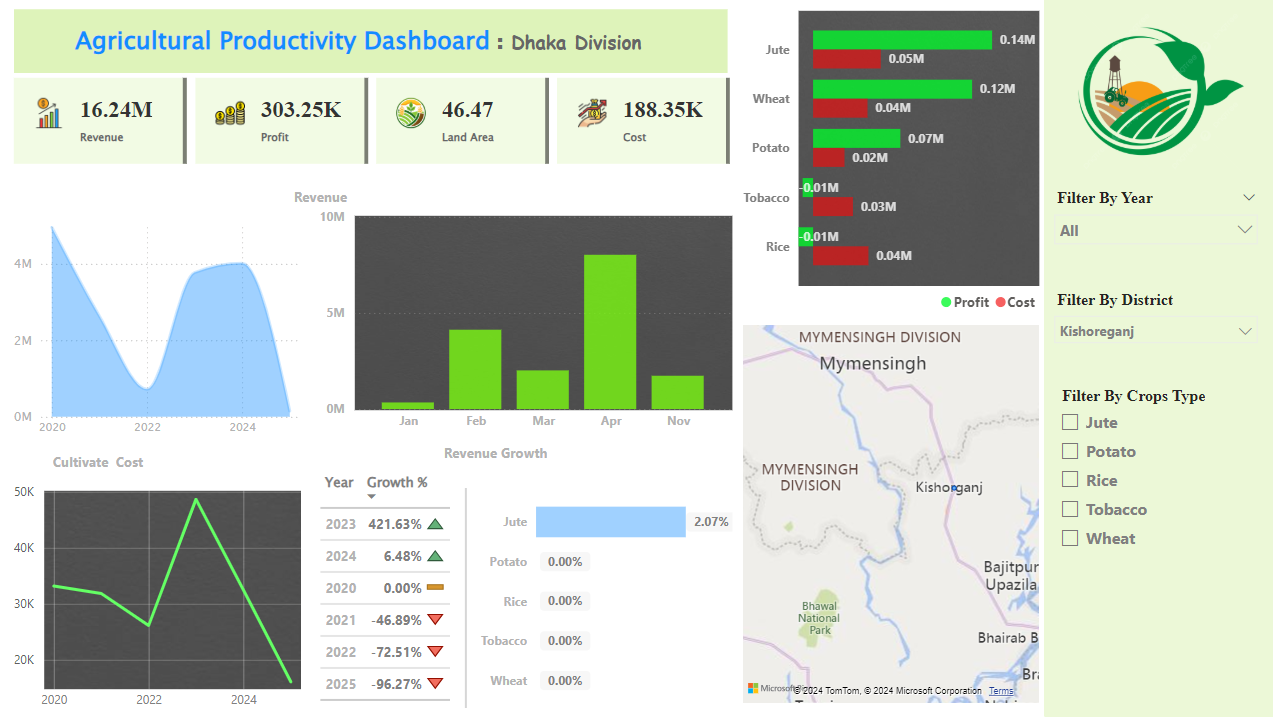

The page's visual inventory and layout, read from the dashboard file:
{"tool":"powerbi","page":{"name":"Page 1","canvas":[1280,720],"ordinal":0},"visuals":[{"type":"cardVisual","fields":{"Data":["Sheet1.Revenue","Sheet1.Total Profit","Sheet1.Total Land Area","Sheet1.Total Cost"]},"box":[10,75,728.8,96.2],"z":0},{"type":"lineChart","fields":{"Y":["Sheet1.Revenue"],"Category":["Calendar.Date.Variation.Date Hierarchy.Year"]},"box":[10,213.8,300,236.2],"z":1000},{"type":"shape","box":[1045,0,233.3,720],"z":2000},{"type":"slicer","fields":{"Values":["Sheet1.Cultivate Area"]},"box":[1044.9,287.4,223.9,72.1],"z":3000},{"type":"slicer","fields":{"Values":["Calendar.Year"]},"box":[1044.9,186.6,223.9,93.3],"z":4000},{"type":"slicer","fields":{"Values":["Sheet1.Crops Type"]},"box":[1049.9,383.1,214,195.3],"z":5000},{"type":"image","box":[1044.9,0,233.9,186.6],"z":6000},{"type":"lineChart","fields":{"Y":["Sheet1.Total Cost"],"Category":["Calendar.Date.Variation.Date Hierarchy.Year"]},"box":[10,480,300,240],"z":7000},{"type":"columnChart","title":"Revenue by Month","fields":{"Y":["Sheet1.Revenue"],"Category":["Calendar.Month"]},"box":[315,205,423.8,236.2],"z":8000},{"type":"tableEx","fields":{"Values":["Calendar.Date.Variation.Date Hierarchy.Year","Sheet1.Revenue Growth"]},"box":[315,463.8,152.5,246.2],"z":9000},{"type":"barChart","fields":{"Category":["Sheet1.Crops Type"],"Y":["Sheet1.Revenue Growth"]},"box":[476.2,480,262.5,240],"z":10000},{"type":"textbox","box":[48.5,450.3,160.5,29.9],"z":11000},{"type":"textbox","box":[290,185,76.2,40],"z":12000},{"type":"shape","box":[415,490,103.8,220],"z":13000},{"type":"textbox","box":[440.4,441.6,130.6,38.6],"z":14000},{"type":"shape","box":[15,11.2,713.8,63.8],"z":15000},{"type":"textbox","box":[71.2,20,631.2,55],"z":16000},{"type":"map","fields":{"Category":["Sheet1.District"],"Size":["Sheet1.Revenue"]},"box":[738.6,322.9,305.7,387.1],"z":17000},{"type":"clusteredBarChart","fields":{"Category":["Sheet1.Crops Type"],"Y":["Sheet1.Total Profit","Sheet1.Total Cost"]},"box":[738.6,0,307.1,322.9],"z":17001}]}

Visuals, with their boxes in screenshot pixels (x1, y1, x2, y2), scaled from the page's 1280x720 canvas onto the 1273x717 screenshot:
cardVisual - Sheet1.Revenue x Sheet1.Total Profit: l=10, t=75, r=735, b=170
lineChart - Sheet1.Revenue x Calendar.Date.Variation.Date Hierarchy.Year: l=10, t=213, r=308, b=448
shape: l=1039, t=0, r=1271, b=716
slicer - Sheet1.Cultivate Area: l=1039, t=286, r=1262, b=358
slicer - Calendar.Year: l=1039, t=186, r=1262, b=279
slicer - Sheet1.Crops Type: l=1044, t=382, r=1257, b=576
image: l=1039, t=0, r=1272, b=186
lineChart - Sheet1.Total Cost x Calendar.Date.Variation.Date Hierarchy.Year: l=10, t=478, r=308, b=716
"Revenue by Month" columnChart: l=313, t=204, r=735, b=439
tableEx - Calendar.Date.Variation.Date Hierarchy.Year x Sheet1.Revenue Growth: l=313, t=462, r=465, b=707
barChart - Sheet1.Crops Type x Sheet1.Revenue Growth: l=474, t=478, r=735, b=716
textbox: l=48, t=448, r=208, b=478
textbox: l=288, t=184, r=364, b=224
shape: l=413, t=488, r=516, b=707
textbox: l=438, t=440, r=568, b=478
shape: l=15, t=11, r=725, b=75
textbox: l=71, t=20, r=699, b=75
map - Sheet1.District x Sheet1.Revenue: l=735, t=322, r=1039, b=707
clusteredBarChart - Sheet1.Crops Type x Sheet1.Total Profit: l=735, t=0, r=1040, b=322
